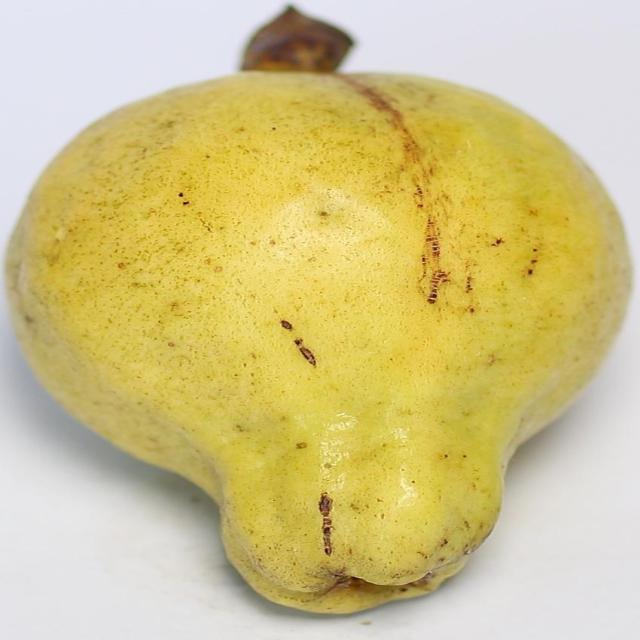Good_Guava: (3, 69, 634, 619)
